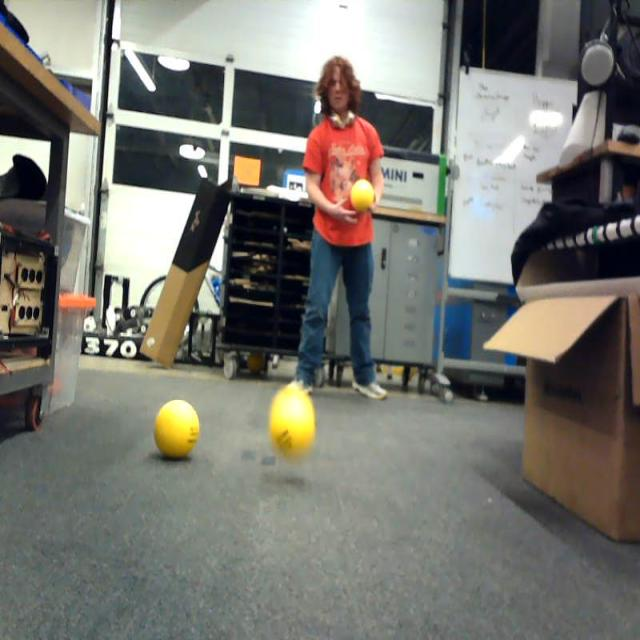Fuel: (270, 387, 316, 459), (154, 400, 199, 459), (350, 179, 374, 213)
